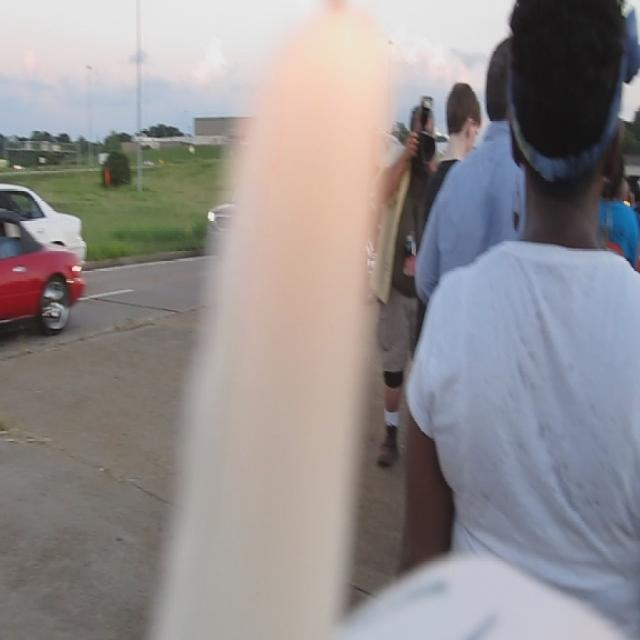car: (0, 184, 90, 265), (206, 188, 232, 247)
